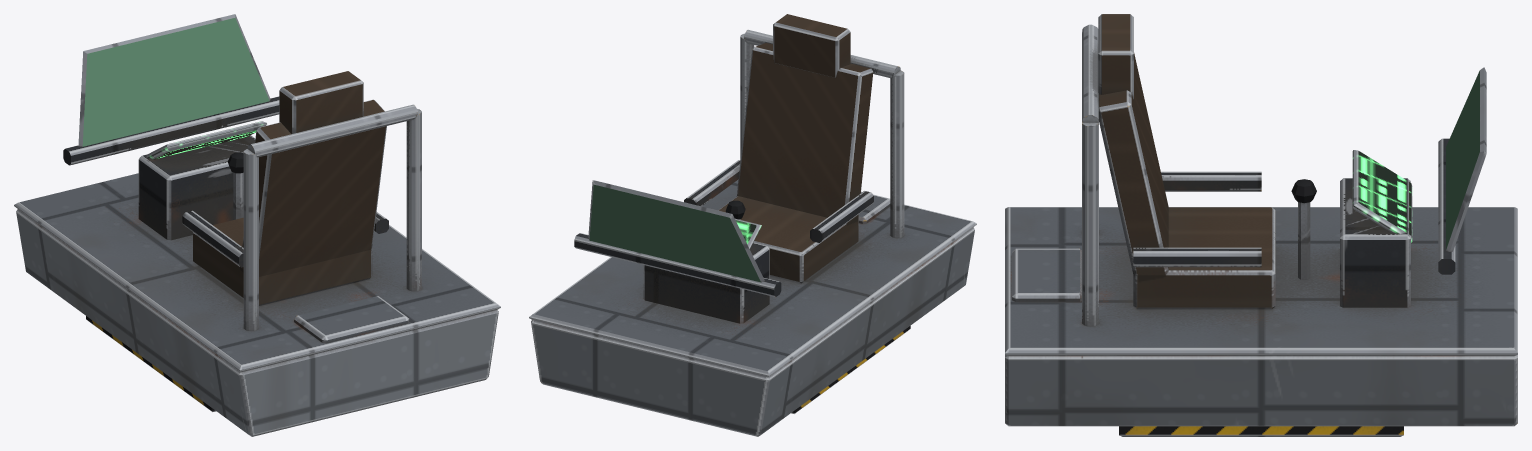
File: cabina_abierta_t1.fbx
The picture shows the model from 3 angles, left to right: view 1: azimuth 30°, elevation 25°; view 2: azimuth 150°, elevation 25°; view 3: azimuth 270°, elevation 25°; orthographic projection. The views are drawn at different scales.
Parts seen in each view (by area): view 1: cabina_abierta_t1, cabina_abierta_t1_cristal; view 2: cabina_abierta_t1, cabina_abierta_t1_cristal; view 3: cabina_abierta_t1, cabina_abierta_t1_cristal.
Boxes of the visible parts, x1=… form: cabina_abierta_t1: x1=14, y1=14, x2=500, y2=436; cabina_abierta_t1_cristal: x1=82, y1=18, x2=269, y2=146; cabina_abierta_t1: x1=529, y1=14, x2=976, y2=436; cabina_abierta_t1_cristal: x1=589, y1=184, x2=760, y2=282; cabina_abierta_t1: x1=1005, y1=14, x2=1517, y2=436; cabina_abierta_t1_cristal: x1=1446, y1=70, x2=1479, y2=249.
Bounding box in the file's own units: 2.4 × 2.74 × 3.6.
